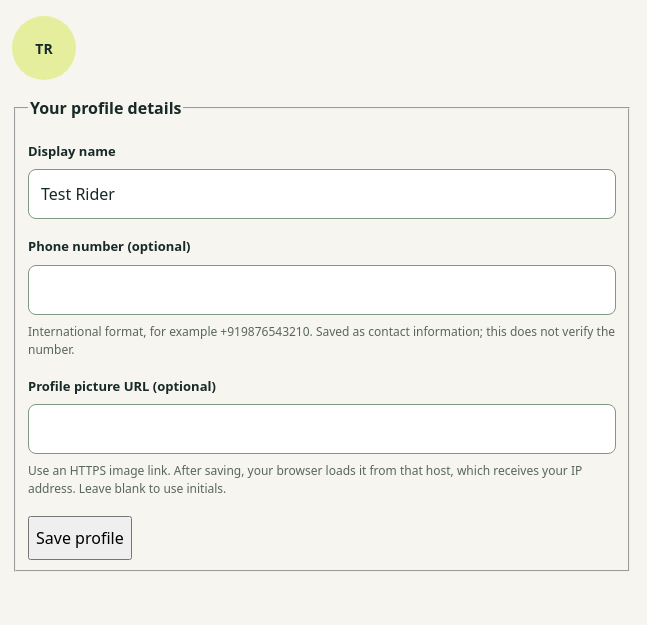
Scenario: failed save preserves the form draft
Type "+919876543210" into the field labelled "Phone number (optional)" at (322, 290), box top-left (28, 265), bottom-right (616, 315)
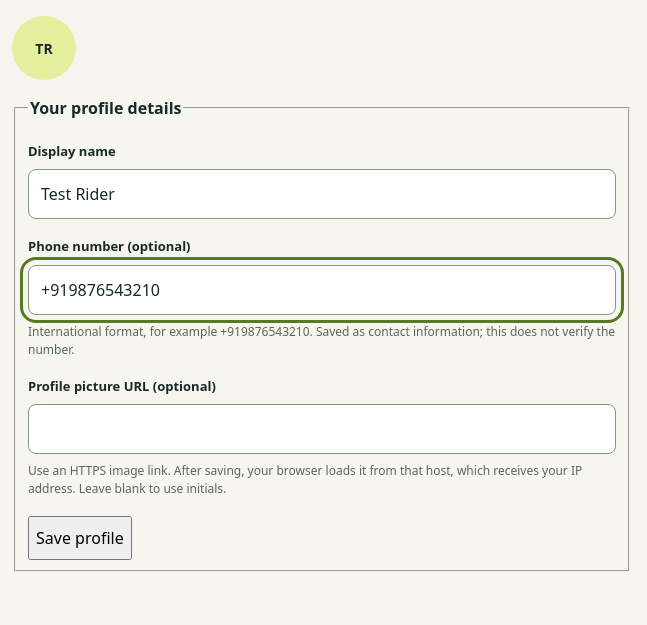
Click the button "Save profile" at (80, 538), box top-left (28, 516), bottom-right (132, 560)
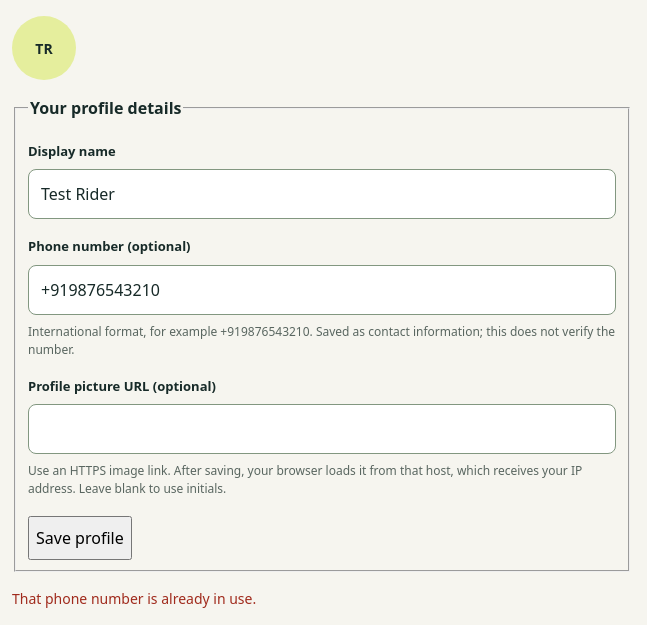
expect the message "That phone number is already in use." is shown: met, box top-left (12, 589), bottom-right (256, 608)
